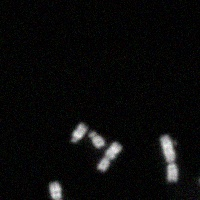chromosome: (160, 134, 178, 182), (97, 142, 122, 172), (70, 122, 87, 143), (50, 180, 65, 200), (89, 131, 105, 149)
